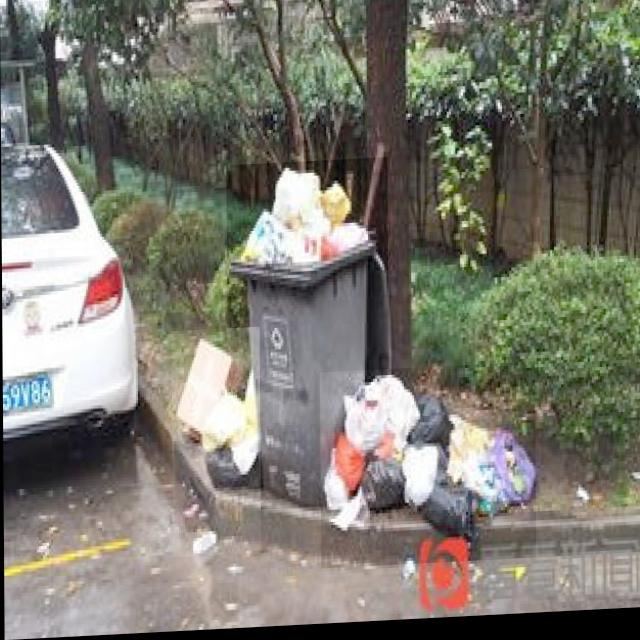garbage: (319, 367, 535, 572), (171, 329, 261, 559)
overflow: (226, 162, 389, 514)
